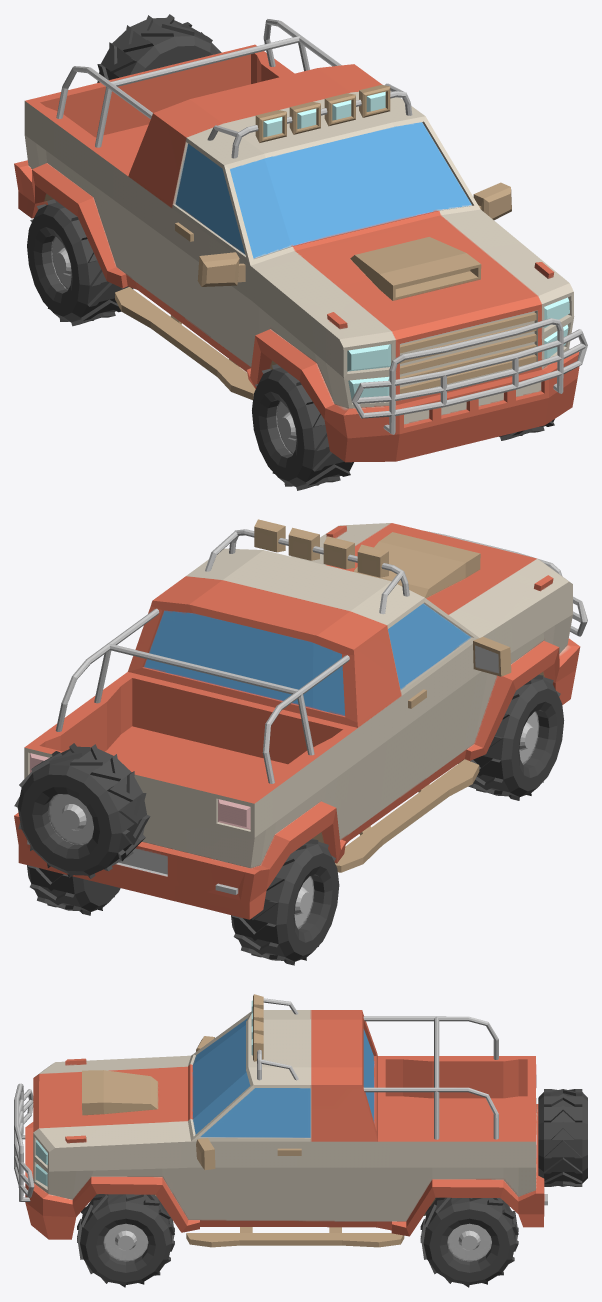
File: SUV.fbx
3 views of the same model, one above another, from view 1: azimuth 30°, elevation 25°; view 2: azimuth 150°, elevation 25°; view 3: azimuth 270°, elevation 25° (orthographic). The views are drawn at different scales.
Visible parts, largest first — view 1: Jeep, rightWheel, rearWheels; view 2: Jeep, rearWheels, rightWheel, breakLights; view 3: Jeep, leftWheel, rearWheels.
Part boxes in pixels (left/top/right/bottom): Jeep: left=14, top=14, right=587, bottom=462; rightWheel: left=252, top=364, right=353, bottom=490; rearWheels: left=27, top=199, right=133, bottom=326; Jeep: left=14, top=519, right=587, bottom=919; rearWheels: left=27, top=838, right=339, bottom=965; rightWheel: left=458, top=674, right=564, bottom=800; breakLights: left=30, top=753, right=250, bottom=829; Jeep: left=14, top=994, right=587, bottom=1247; leftWheel: left=77, top=1194, right=174, bottom=1287; rearWheels: left=420, top=1197, right=518, bottom=1287.
Bounding box in the file's own units: 193 × 173 × 403.
1 material, 1 textured.
